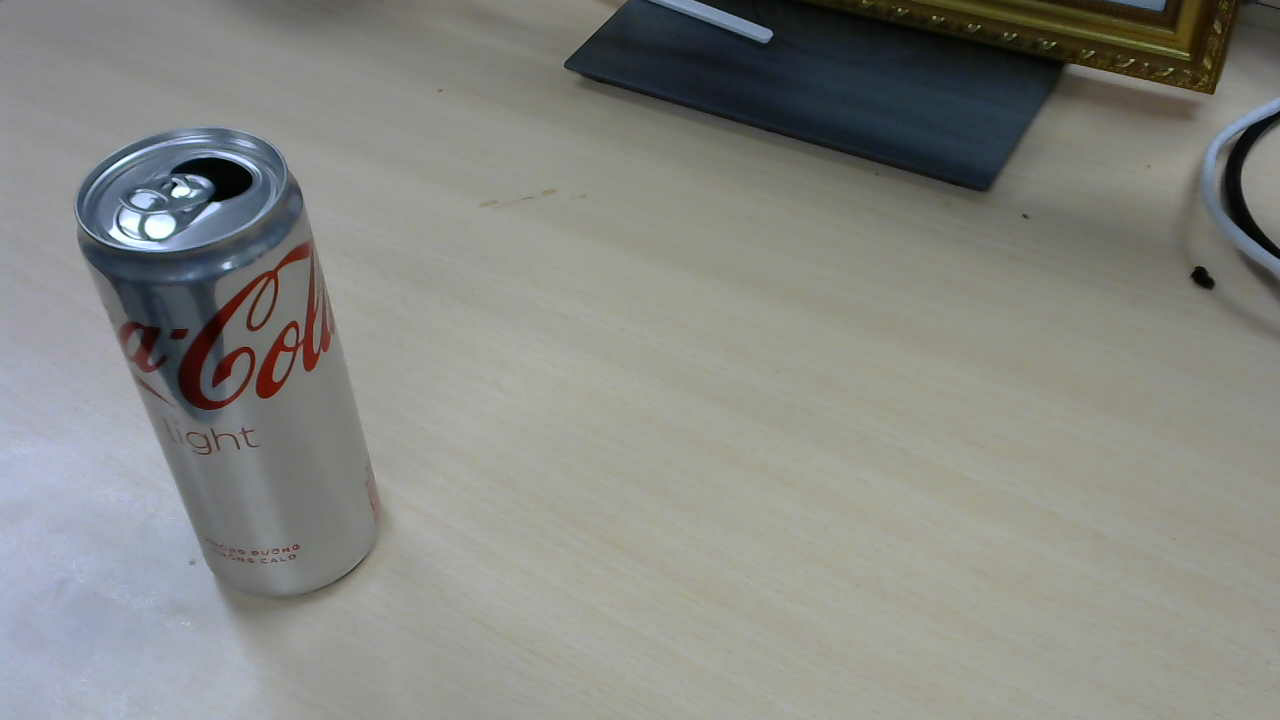Coca_Cola: (76, 130, 389, 605)
